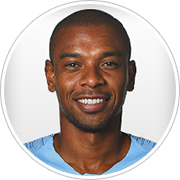smile: (72, 93, 112, 112)
